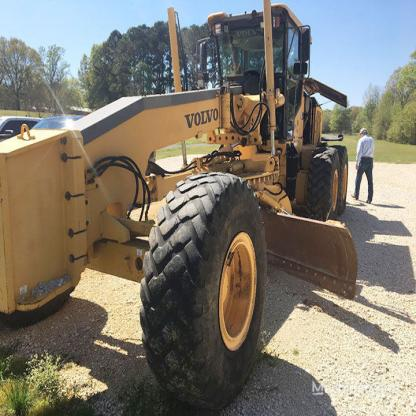bull_dozer/loader/grader: (7, 5, 370, 400)
